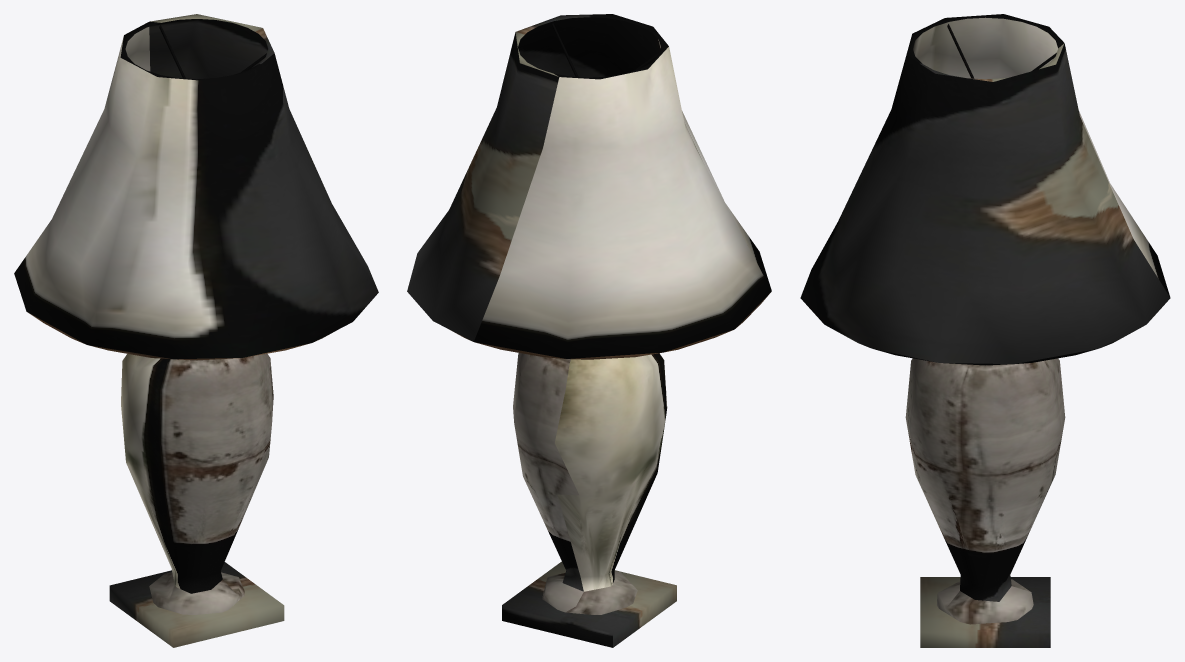
Rendered from BrknLamp 1.fbx.
3 views of the same model, side by side, from view 1: azimuth 30°, elevation 25°; view 2: azimuth 150°, elevation 25°; view 3: azimuth 270°, elevation 25° (orthographic).
Parts seen in each view (by area): view 1: c3c1aaa39efd442bba6bccd21ec33c14.obj; view 2: c3c1aaa39efd442bba6bccd21ec33c14.obj; view 3: c3c1aaa39efd442bba6bccd21ec33c14.obj.
Part boxes in pixels (x1,y1,x2,y2): c3c1aaa39efd442bba6bccd21ec33c14.obj: (14,14,378,647); c3c1aaa39efd442bba6bccd21ec33c14.obj: (407,14,771,647); c3c1aaa39efd442bba6bccd21ec33c14.obj: (800,14,1170,647).
Size of the model in its own units: 32.68 by 55.82 by 32.67.
